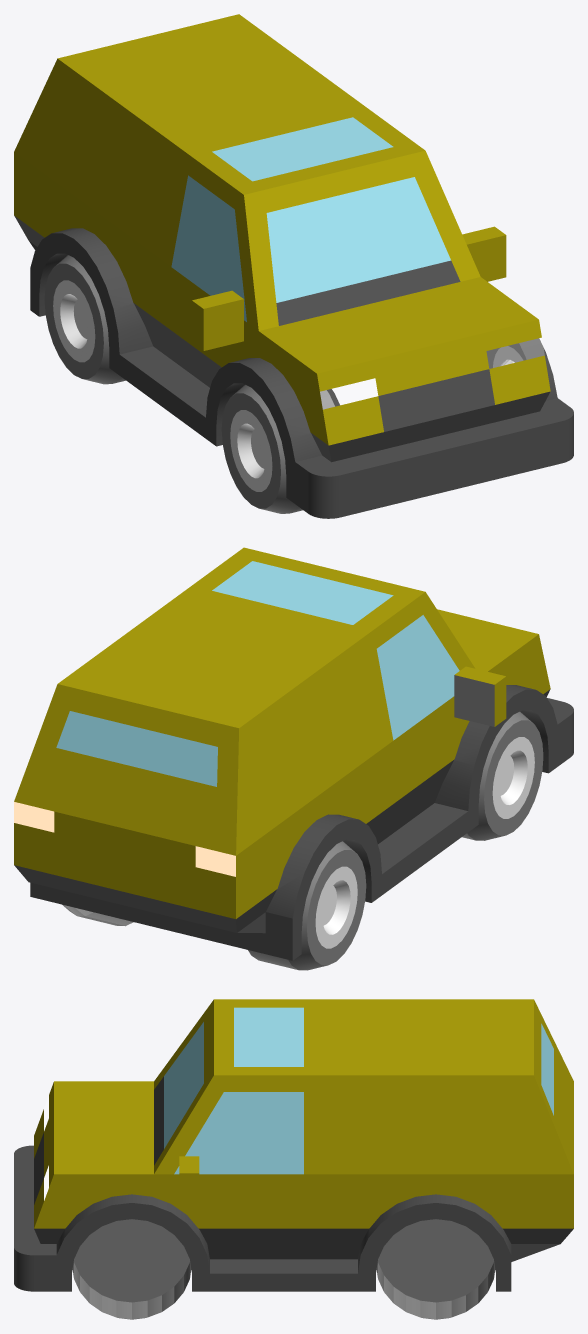
3 views of the same model, one above another, from view 1: azimuth 30°, elevation 25°; view 2: azimuth 150°, elevation 25°; view 3: azimuth 270°, elevation 25° (orthographic). The views are drawn at different scales.
Parts seen in each view (by area): view 1: body.009, wheel_frontRight.009, wheel_backRight.009, wheel_frontLeft.009; view 2: body.009, wheel_backRight.009, wheel_frontRight.009; view 3: body.009, wheel_backLeft.009, wheel_frontLeft.009.
Boxes of the visible parts, x1,y1,x2,y2 form: body.009: [14, 14, 573, 518]; wheel_frontRight.009: [221, 384, 334, 513]; wheel_backRight.009: [44, 255, 125, 384]; wheel_frontLeft.009: [486, 343, 526, 368]; body.009: [14, 547, 573, 960]; wheel_backRight.009: [248, 841, 366, 970]; wheel_frontRight.009: [462, 711, 543, 840]; body.009: [14, 999, 573, 1291]; wheel_backLeft.009: [376, 1219, 495, 1319]; wheel_frontLeft.009: [72, 1219, 191, 1319].
Size of the model in its own units: 1.5 by 1.3 by 2.8.
